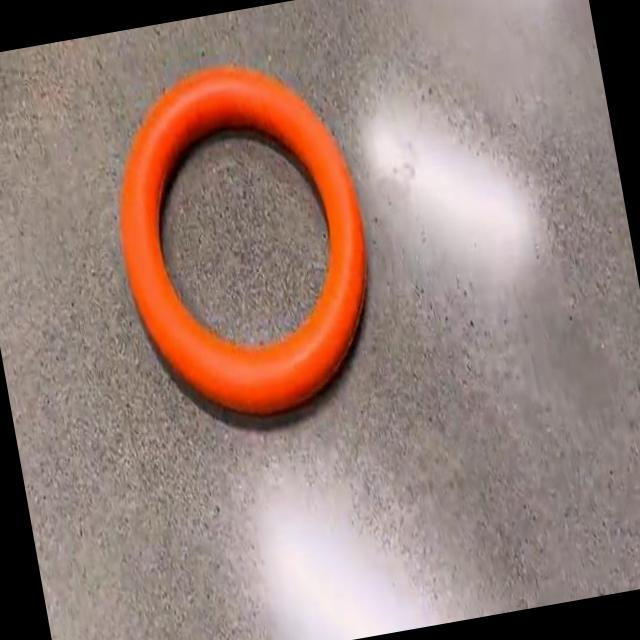note: (121, 66, 366, 412)
